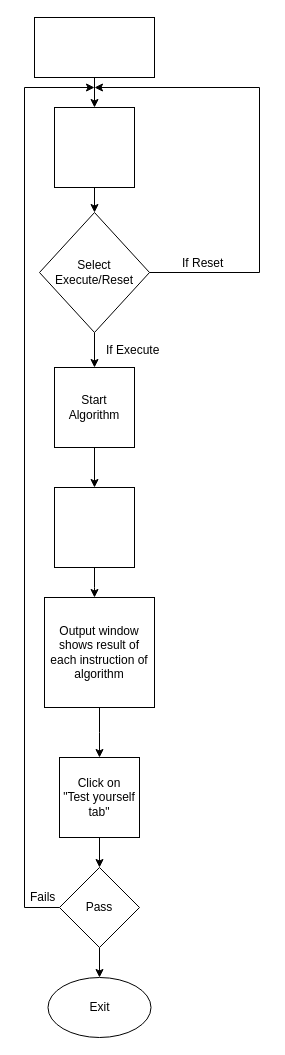
Image size: 285x1055. Some labels were removed from this diagram. Each missing label, with the centre of its shape:
Line by line execution of algorithm: (94,527)
Selection of Array: (94,147)
Start: (94,47)
